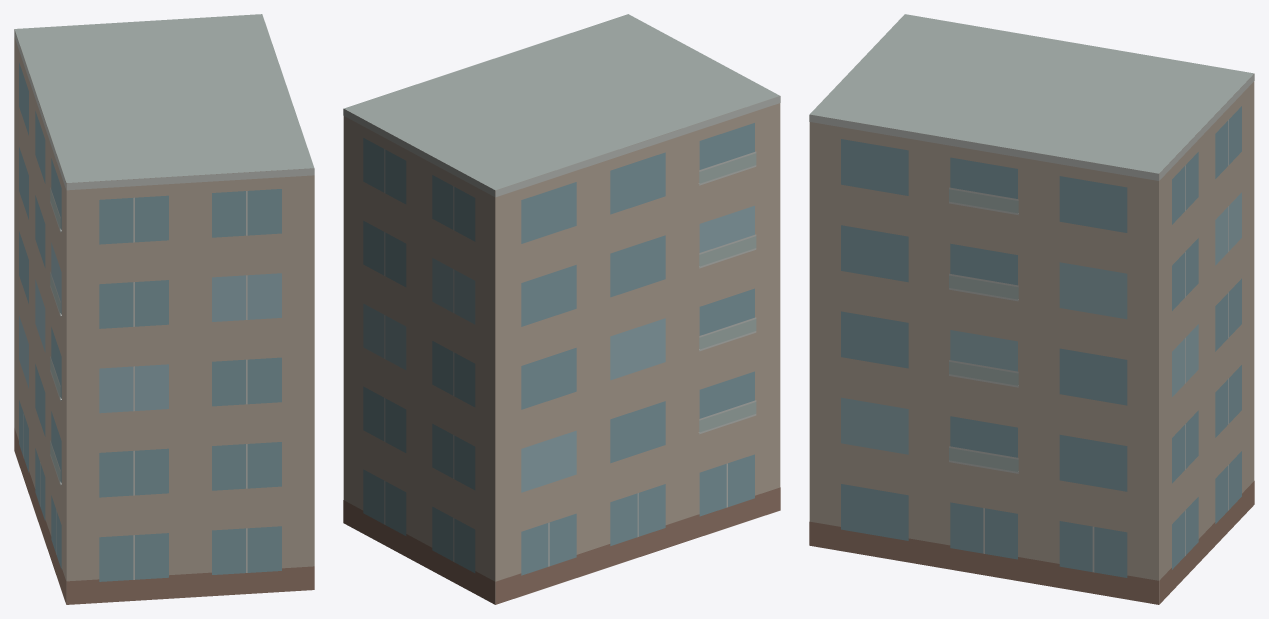
Rendered from survey-upis-32618734.glb.
The picture shows the model from 3 angles, left to right: view 1: azimuth 30°, elevation 25°; view 2: azimuth 150°, elevation 25°; view 3: azimuth 270°, elevation 25°; orthographic projection. The views are drawn at different scales.
Visible parts, largest first — view 1: survey-upis-32618734.tmp; view 2: survey-upis-32618734.tmp; view 3: survey-upis-32618734.tmp.
Part boxes in pixels (<box>): survey-upis-32618734.tmp: <box>14,14,314,604</box>; survey-upis-32618734.tmp: <box>343,14,780,604</box>; survey-upis-32618734.tmp: <box>809,14,1254,604</box>.
Bounding box in the file's own units: 11.37 × 14.3 × 13.39.
